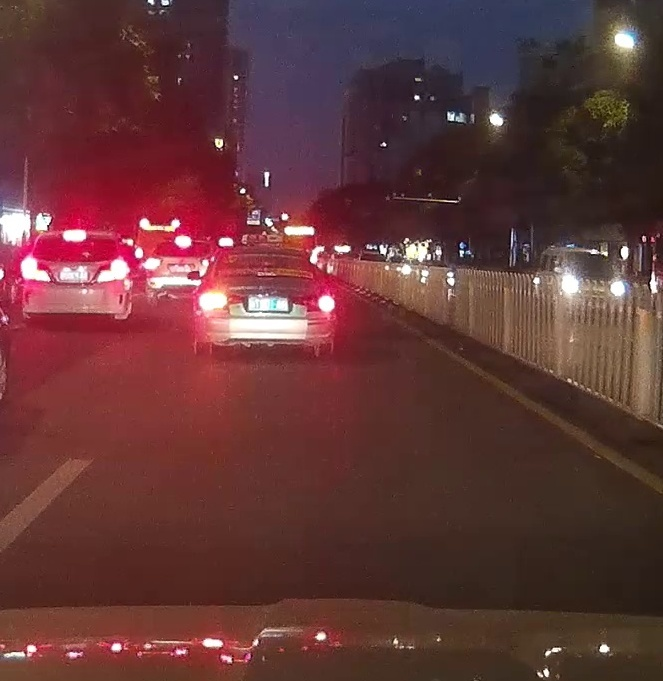L_light: (198, 285, 245, 310), (22, 257, 56, 282)
R_light: (294, 289, 335, 312), (96, 258, 129, 283)
T_light: (63, 230, 87, 242), (260, 261, 275, 267)
night-brake: (21, 229, 131, 325)
night-left: (196, 246, 336, 357)
